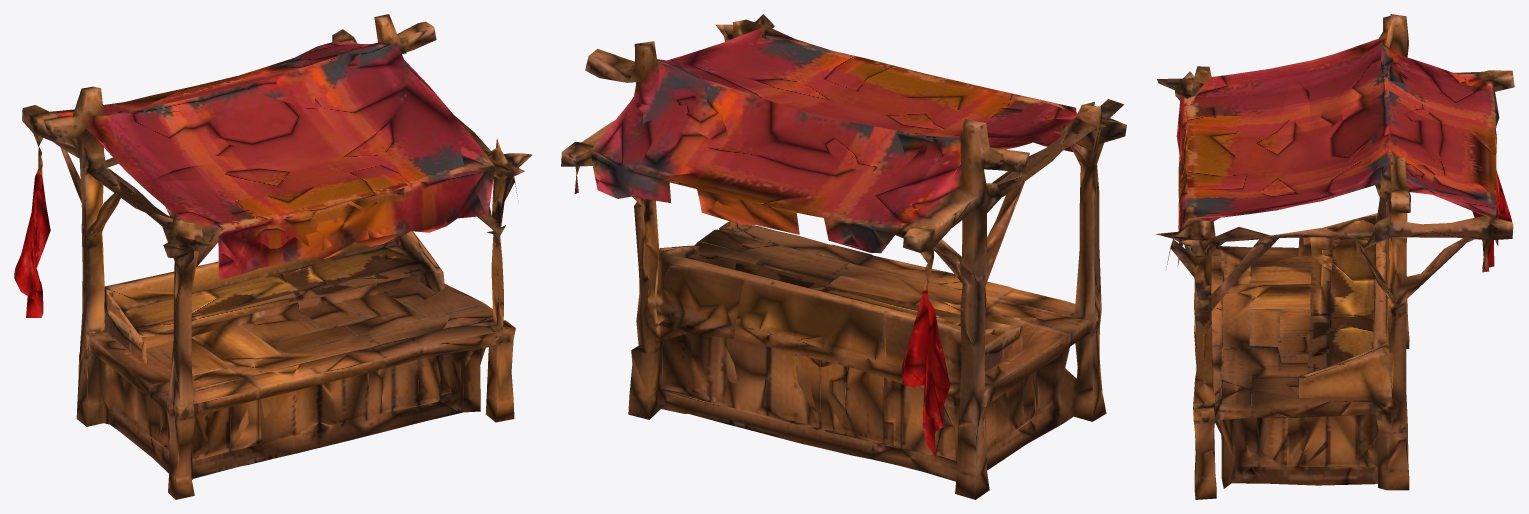
File: market_stall_A.glb
The picture shows the model from 3 angles, left to right: view 1: azimuth 30°, elevation 25°; view 2: azimuth 150°, elevation 25°; view 3: azimuth 270°, elevation 25°; orthographic projection. The views are drawn at different scales.
Parts seen in each view (by area): view 1: market_stall_A, canopy; view 2: market_stall_A, canopy; view 3: canopy, market_stall_A.
Part boxes in pixels (<box>): market_stall_A: <box>14,147,515,499</box>; canopy: <box>22,14,532,280</box>; market_stall_A: <box>574,140,1106,499</box>; canopy: <box>561,14,1126,286</box>; canopy: <box>1156,14,1514,294</box>; market_stall_A: <box>1177,114,1512,499</box>.
Size of the model in its own units: 3 by 2.46 by 2.43.
1 material, 1 textured.
